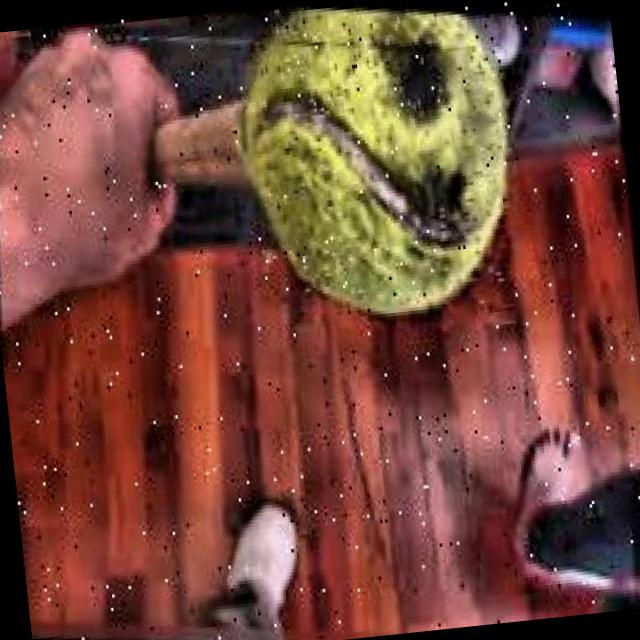tennis-ball: (222, 0, 542, 344)
